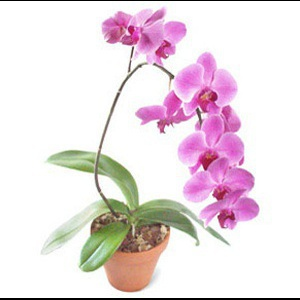flowerpot: (86, 204, 172, 294)
